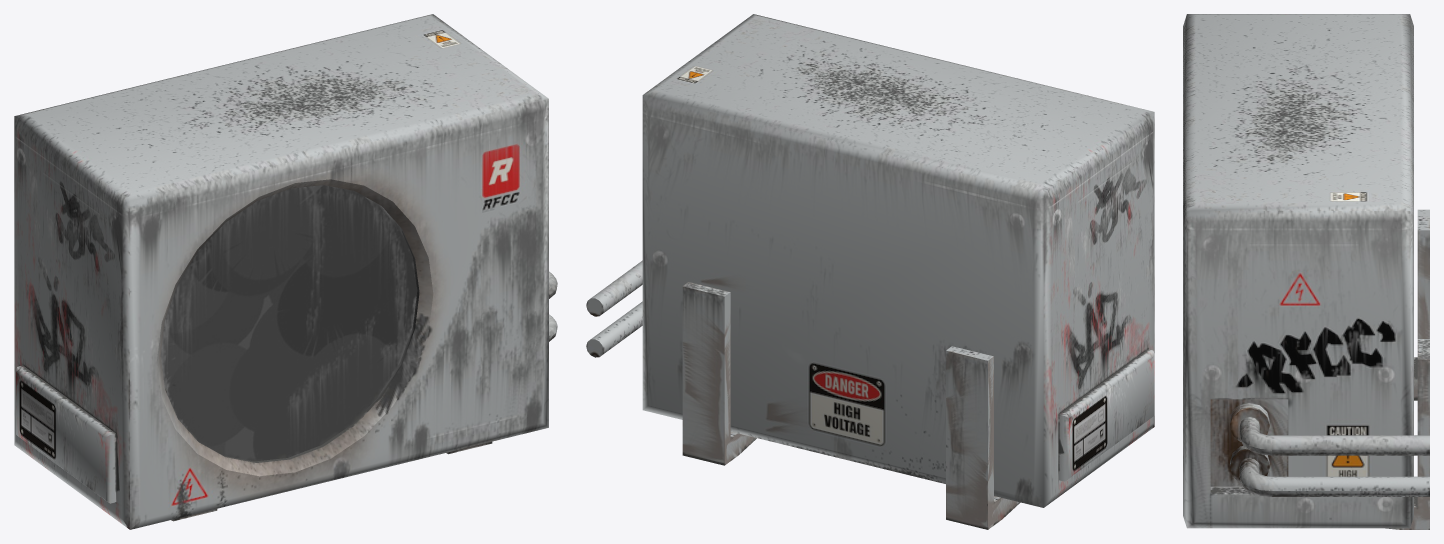
The model's file is obj_sci_fi_air_conditioning_game_0a4940.glb.
The picture shows the model from 3 angles, left to right: view 1: azimuth 30°, elevation 25°; view 2: azimuth 150°, elevation 25°; view 3: azimuth 270°, elevation 25°; orthographic projection. The views are drawn at different scales.
Parts seen in each view (by area): view 1: obj_sci_fi_air_conditioning_game_0a4940; view 2: obj_sci_fi_air_conditioning_game_0a4940; view 3: obj_sci_fi_air_conditioning_game_0a4940.
Boxes of the visible parts, left/top/right/bottom form: obj_sci_fi_air_conditioning_game_0a4940: left=14, top=14, right=557, bottom=529; obj_sci_fi_air_conditioning_game_0a4940: left=586, top=14, right=1154, bottom=529; obj_sci_fi_air_conditioning_game_0a4940: left=1183, top=14, right=1429, bottom=529.
Bounding box in the file's own units: 0.8378 × 0.6 × 0.3869.
1 material, 1 textured.
